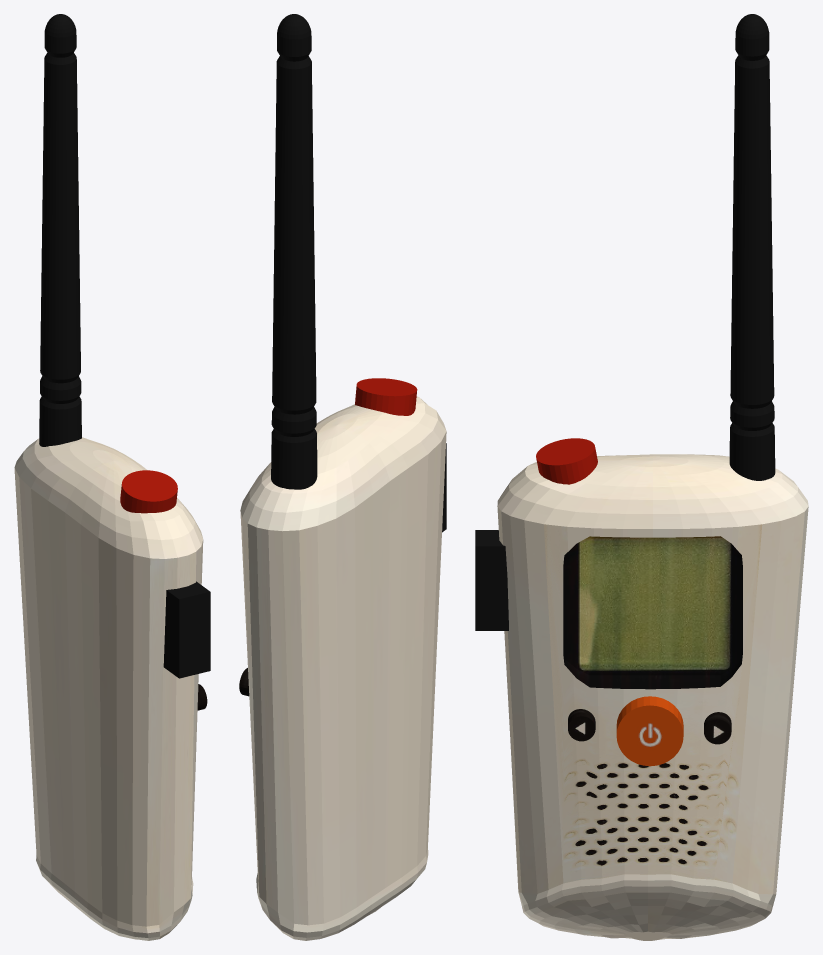
Rendered from walkie_listo.obj.
3 renders of one model, left to right at view 1: azimuth 30°, elevation 25°; view 2: azimuth 150°, elevation 25°; view 3: azimuth 270°, elevation 25°, orthographic. The views are drawn at different scales.
Parts seen in each view (by area): view 1: Cylinder.002_Cylinder.002_Material.002, Cylinder.002_Cylinder.002_Material.001, Cylinder.002_Cylinder.002_Material.004; view 2: Cylinder.002_Cylinder.002_Material.002, Cylinder.002_Cylinder.002_Material.001, Cylinder.002_Cylinder.002_Material.004; view 3: Cylinder.002_Cylinder.002_Material.002, Cylinder.002_Cylinder.002_Material.001, Cylinder.002_Cylinder.002_Material.004.
Part boxes in pixels (<box>): Cylinder.002_Cylinder.002_Material.002: <box>14,437,207,940</box>; Cylinder.002_Cylinder.002_Material.001: <box>39,14,210,678</box>; Cylinder.002_Cylinder.002_Material.004: <box>120,470,177,513</box>; Cylinder.002_Cylinder.002_Material.002: <box>239,396,446,940</box>; Cylinder.002_Cylinder.002_Material.001: <box>271,14,446,532</box>; Cylinder.002_Cylinder.002_Material.004: <box>355,378,417,415</box>; Cylinder.002_Cylinder.002_Material.002: <box>497,454,808,940</box>; Cylinder.002_Cylinder.002_Material.001: <box>475,14,775,630</box>; Cylinder.002_Cylinder.002_Material.004: <box>536,438,597,484</box>.
Size of the model in its own units: 0.1425 by 1.06 by 0.3446.
